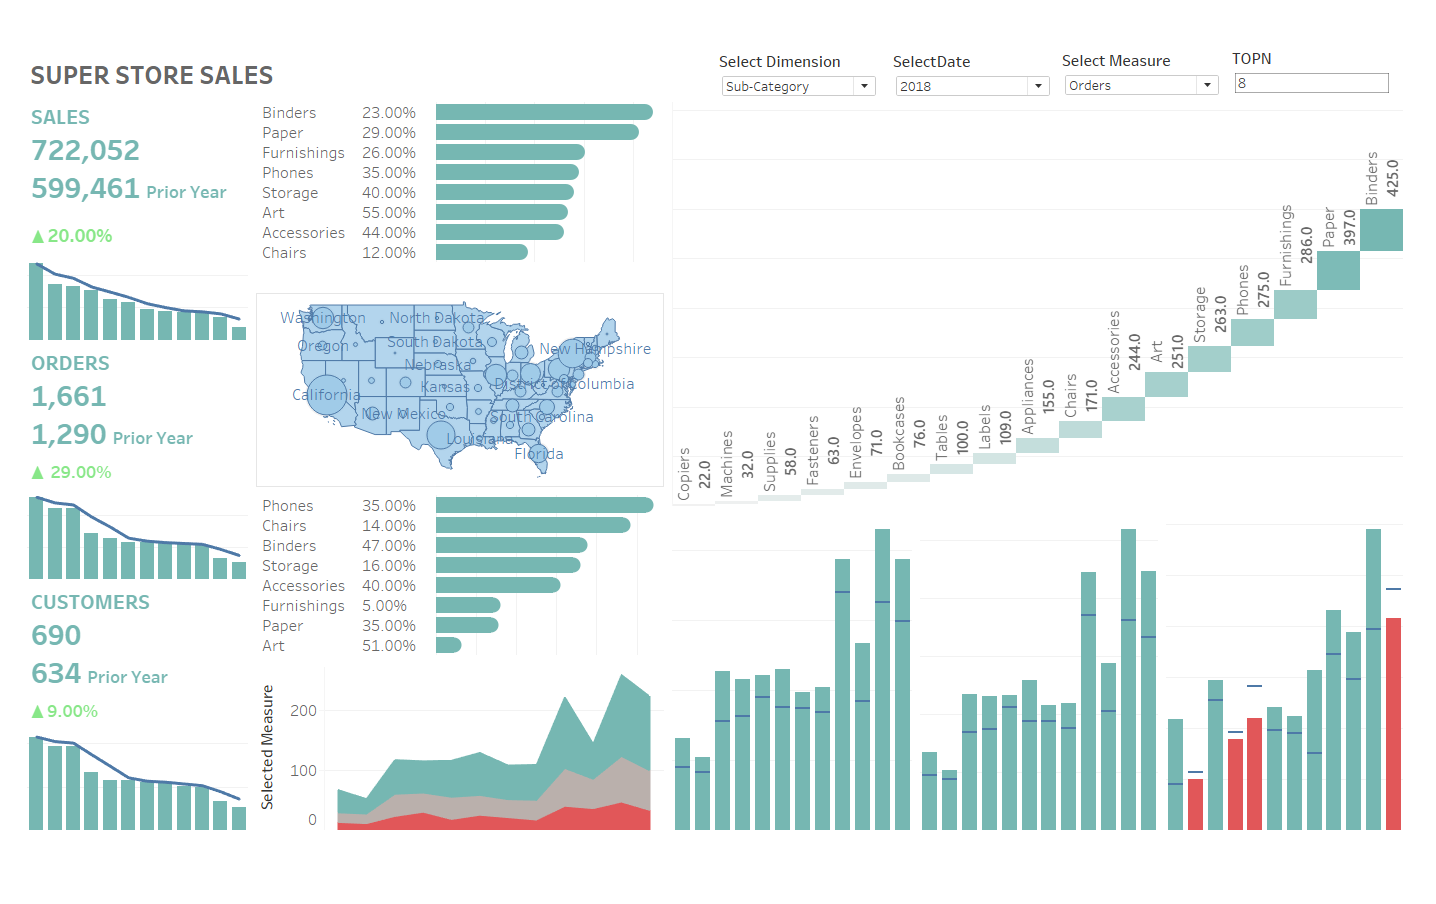

Layout of this report page (visuals, bound fields, positions):
{"tool":"tableau","page":{"name":"SalesDashboard","canvas":[1400,800],"ordinal":0},"visuals":[{"type":"parameter","param":"[Parameters].[Parameter 3]","box":[1217,6,160,48]},{"type":"text","box":[8,8,1384,48]},{"type":"parameter","param":"[Parameters].[Parameter 2]","box":[1047,8,160,48]},{"type":"parameter","param":"[Parameters].[Parameter 4]","box":[704,9,160,48]},{"type":"parameter","param":"[Parameters].[Parameter 1]","box":[878,9,160,48]},{"type":"worksheet","title":"KEYMETRICS1","mark":"Automatic","box":[8,56,229,120]},{"type":"worksheet","title":"TOPN","mark":"Bar","rows":["Calculation_1054968226055372800","PCTDIFF (copy)_956733458518482955"],"cols":["YTDSALES (copy)_956733458517254153","YTDSALES (copy)_956733458517254153"],"box":[237,56,416,191]},{"type":"worksheet","title":"WATERFALL_CHART","mark":"GanttBar","cols":["Sub-Category"],"box":[653,56,739,412]},{"type":"worksheet","title":"PCTCOLOR1","mark":"Automatic","box":[8,176,229,36]},{"type":"worksheet","title":"KPICOLUMN","mark":"Bar","rows":["Sales","Sales"],"cols":["Calculation_1000362080009433101"],"box":[8,212,229,90]},{"type":"worksheet","title":"MAP","mark":"Multipolygon","box":[237,247,416,202]},{"type":"worksheet","title":"KEYMETRICS2","mark":"Automatic","box":[8,302,229,111]},{"type":"worksheet","title":"PCTCOLOR2","mark":"Automatic","box":[8,413,229,32]},{"type":"worksheet","title":"KPICOLUMN (2)","mark":"Bar","rows":["Order ID","Order ID"],"cols":["Calculation_1000362080009433101"],"box":[8,445,229,96]},{"type":"worksheet","title":"TOPN (2)","mark":"Automatic","rows":["Calculation_1054968226055372800","Calculation_956733458514321414"],"cols":["Calculation_956733458513256450","Calculation_956733458513256450"],"box":[237,449,416,172]},{"type":"worksheet","title":"COLUMN_CUSTOMERS","mark":"GanttBar","rows":["YTDORDER (copy)_655555233499553792","YTD ORDERS SPLY  (copy)_655555233499680769"],"cols":["Order Date"],"box":[653,468,247.8,324]},{"type":"worksheet","title":"COLUMN_ORDERS","mark":"Bar","rows":["YTDSALES (copy)_956733458517254153","YTD Sales SPLY (copy)_956733458518306826"],"cols":["Order Date"],"box":[900.8,468,246.2,324]},{"type":"worksheet","title":"COLUMN_SALES","mark":"GanttBar","rows":["Calculation_956733458513256450","Calculation_956733458513817605"],"cols":["Order Date"],"box":[1147,468,245,324]},{"type":"worksheet","title":"KEYMETRICS3","mark":"Automatic","box":[8,541,229,111]},{"type":"worksheet","title":"Bump_Chart","mark":"Area","rows":["Calculation_1000362079997186048"],"cols":["Calculation_1000362080009433101"],"box":[237,621,416,171]},{"type":"worksheet","title":"PCTCOLOR3","mark":"Automatic","box":[8,652,229,32]},{"type":"worksheet","title":"KPICOLUMN (3)","mark":"Bar","rows":["Customer ID","Customer ID"],"cols":["Calculation_1000362080009433101"],"box":[8,684,229,108]}]}

Visuals, with their boxes on the page's 1400x800 design canvas (x1, y1, x2, y2). These are canvas units, not pixel positions in the 1436x904 screenshot, which may show the page scaled, cropped or inside an application window:
parameter: region(1217, 6, 1377, 54)
text: region(8, 8, 1392, 56)
parameter: region(1047, 8, 1207, 56)
parameter: region(704, 9, 864, 57)
parameter: region(878, 9, 1038, 57)
"KEYMETRICS1" worksheet: region(8, 56, 237, 176)
"TOPN" worksheet (Bar marks): region(237, 56, 653, 247)
"WATERFALL_CHART" worksheet (GanttBar marks): region(653, 56, 1392, 468)
"PCTCOLOR1" worksheet: region(8, 176, 237, 212)
"KPICOLUMN" worksheet (Bar marks): region(8, 212, 237, 302)
"MAP" worksheet (Multipolygon marks): region(237, 247, 653, 449)
"KEYMETRICS2" worksheet: region(8, 302, 237, 413)
"PCTCOLOR2" worksheet: region(8, 413, 237, 445)
"KPICOLUMN (2)" worksheet (Bar marks): region(8, 445, 237, 541)
"TOPN (2)" worksheet: region(237, 449, 653, 621)
"COLUMN_CUSTOMERS" worksheet (GanttBar marks): region(653, 468, 901, 792)
"COLUMN_ORDERS" worksheet (Bar marks): region(901, 468, 1147, 792)
"COLUMN_SALES" worksheet (GanttBar marks): region(1147, 468, 1392, 792)
"KEYMETRICS3" worksheet: region(8, 541, 237, 652)
"Bump_Chart" worksheet (Area marks): region(237, 621, 653, 792)
"PCTCOLOR3" worksheet: region(8, 652, 237, 684)
"KPICOLUMN (3)" worksheet (Bar marks): region(8, 684, 237, 792)
